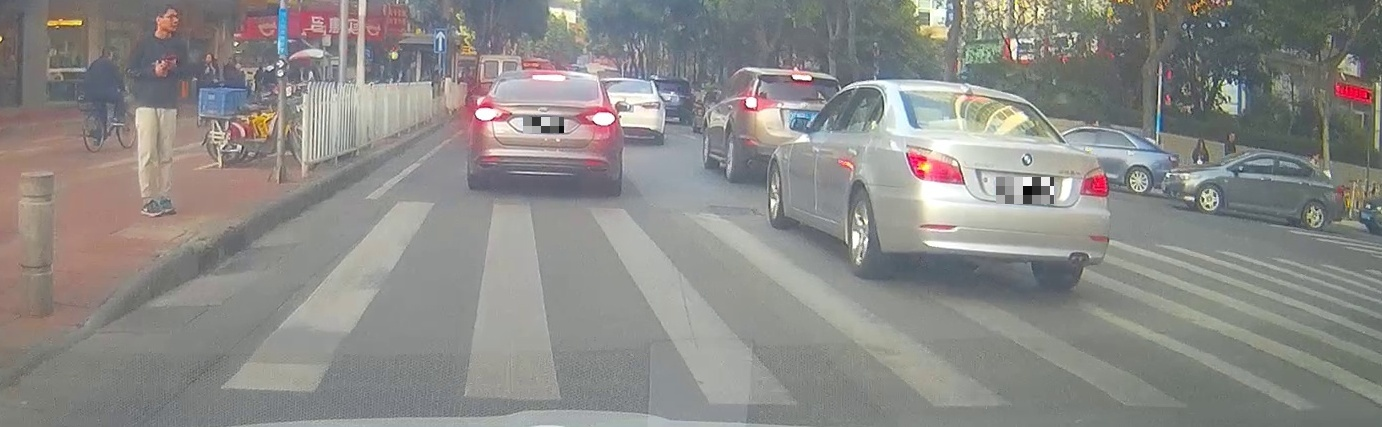L_light: (904, 144, 966, 185), (472, 102, 511, 122)
R_light: (1078, 165, 1110, 197), (585, 108, 617, 128)
T_light: (531, 73, 566, 82), (964, 92, 989, 102)
day-brake: (466, 68, 623, 195)
day-left: (896, 79, 1113, 288)
plate_1: (523, 117, 564, 133)
plate_2: (996, 177, 1054, 204)
